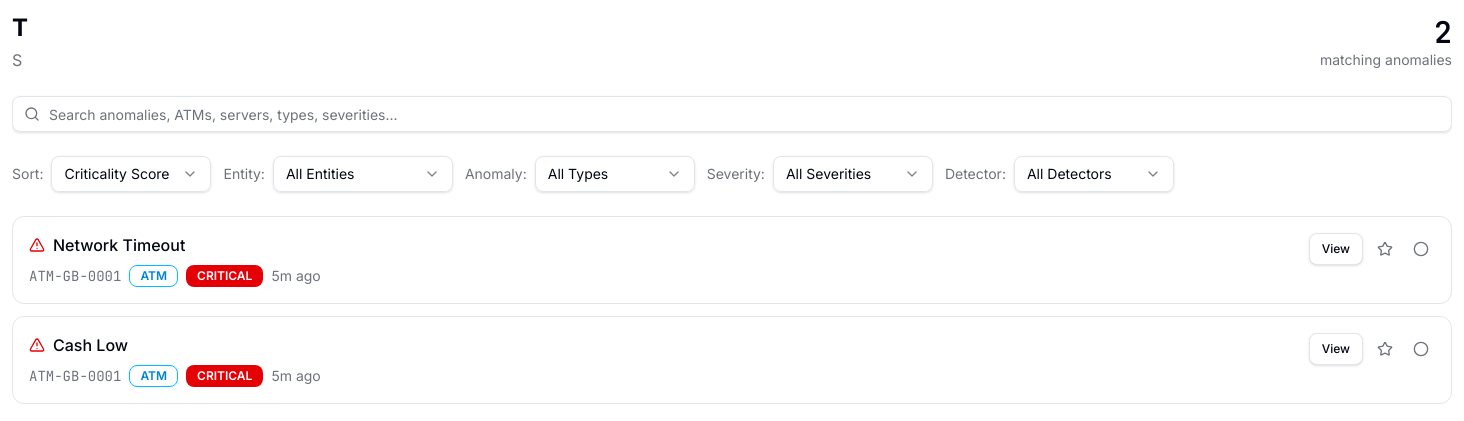
AnomalyListPage branches › filters list via search query
Expected: the heading "Cash Low" is shown, [53,333,128,357]
Type "cash" into the field with placeholder "Search anomalies, ATMs, servers, types, severities...".
click(732, 114); type("cash")  # box [12,96,1452,132]
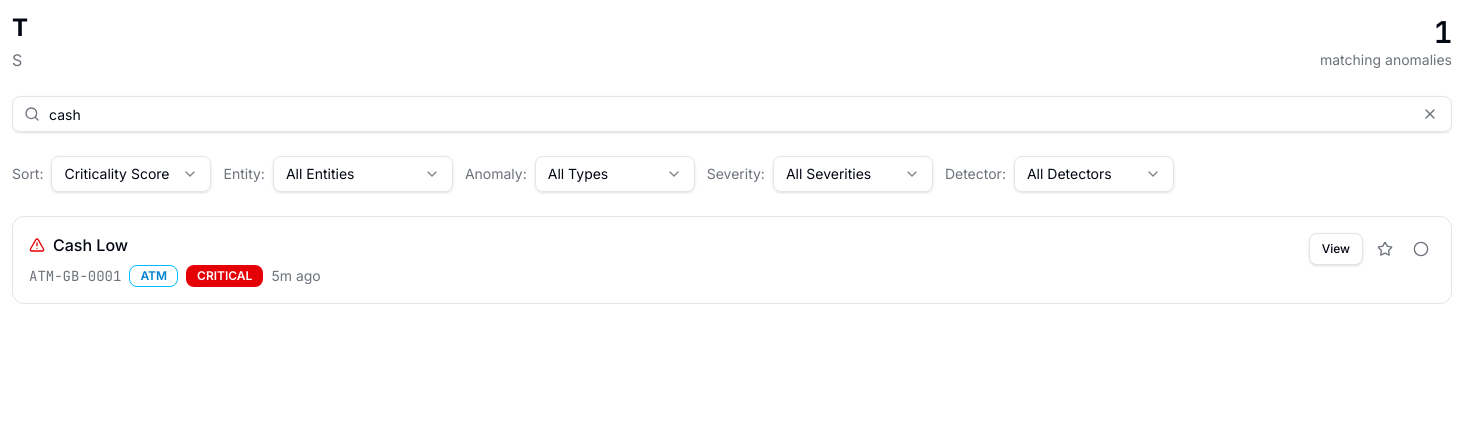
Expected: the heading "Cash Low" is shown, [53,233,128,257]
Expected: the heading "Network Timeout" is gone
